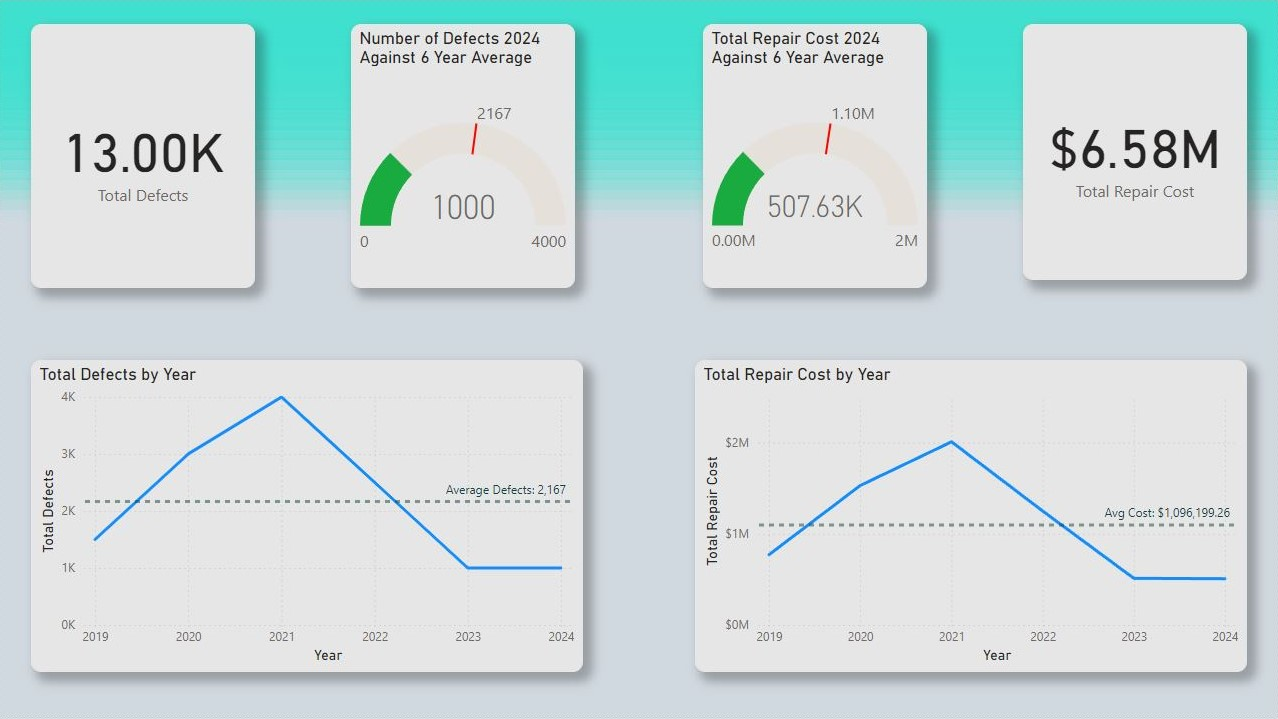

The dashboard page shown, as its layout file describes it:
{"tool":"powerbi","page":{"name":"Cost Report","canvas":[1280,720],"ordinal":1},"visuals":[{"type":"clusteredBarChart","fields":{"Category":["defects_data.severity"],"Y":["Sum(defects_data.repair_cost)"],"Rows":["defects_data.defect_type"]},"box":[24,8,632,704],"z":0},{"type":"card","fields":{"Values":["Sum(defects_data.repair_cost)"]},"box":[1032,16,232,208],"z":1000},{"type":"slicer","fields":{"Values":["defects_data.defect_location"]},"box":[664,0,352,80],"z":2000},{"type":"slicer","fields":{"Values":["defects_data.defect_type"]},"box":[664,80,352,80],"z":3000},{"type":"slicer","fields":{"Values":["defects_data.severity"]},"box":[664,160,352,80],"z":4000},{"type":"pivotTable","fields":{"Values":["Sum(defects_data.repair_cost)"],"Rows":["defects_data.defect_date.Variation.Date Hierarchy.Year","defects_data.defect_date.Variation.Date Hierarchy.Month"],"Columns":["defects_data.severity"]},"box":[752,248,472,176],"z":5000},{"type":"lineChart","fields":{"Category":["defects_data.defect_date.Variation.Date Hierarchy.Year"],"Y":["Sum(defects_data.repair_cost)"]},"box":[712,440,552,264],"z":6000}]}

Visuals, with their boxes in screenshot pixels (x1, y1, x2, y2), scaled from the page's 1280x720 canvas onto the 1278x719 screenshot:
clusteredBarChart - defects_data.severity x Sum(defects_data.repair_cost): <region>24, 8, 655, 711</region>
card - Sum(defects_data.repair_cost): <region>1030, 16, 1262, 224</region>
slicer - defects_data.defect_location: <region>663, 0, 1014, 80</region>
slicer - defects_data.defect_type: <region>663, 80, 1014, 160</region>
slicer - defects_data.severity: <region>663, 160, 1014, 240</region>
pivotTable - Sum(defects_data.repair_cost) x defects_data.defect_date.Variation.Date Hierarchy.Year: <region>751, 248, 1222, 423</region>
lineChart - defects_data.defect_date.Variation.Date Hierarchy.Year x Sum(defects_data.repair_cost): <region>711, 439, 1262, 703</region>
